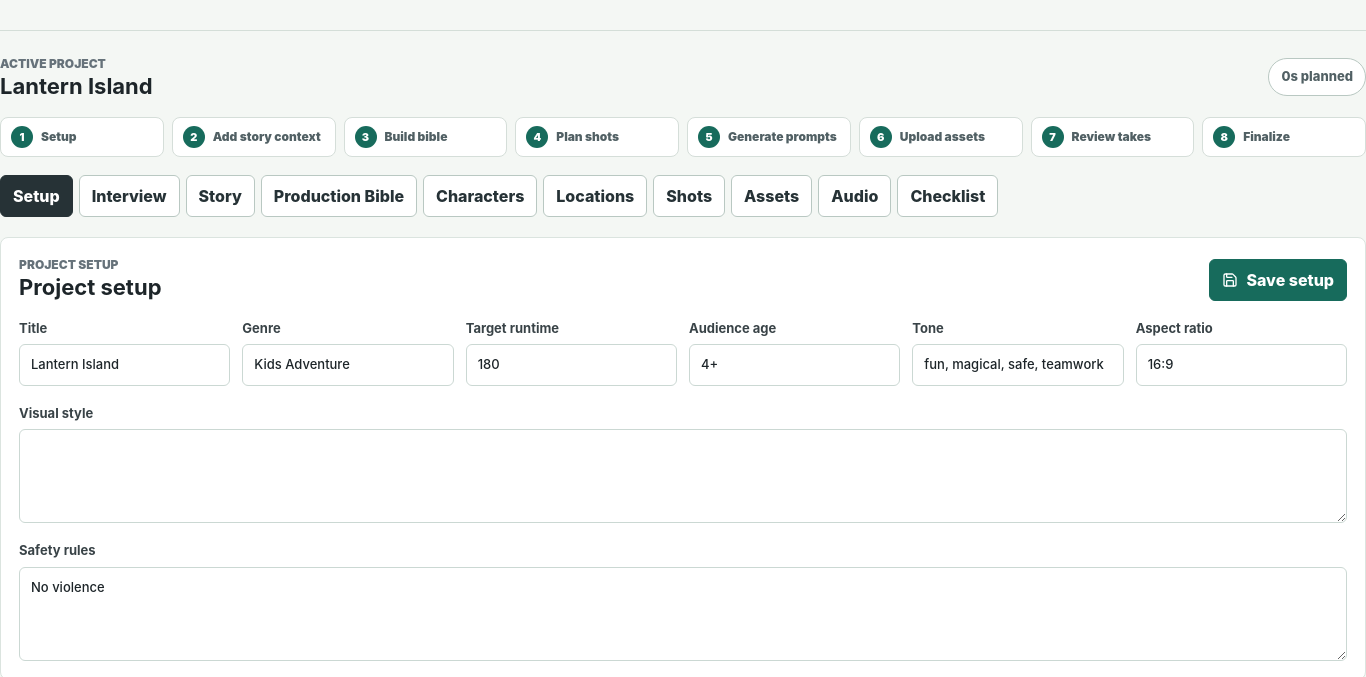
Scenario: ProjectWorkspace › uses flexible workflow wording and marks interview optional
Expected: the list named "Production workflow" shows "Setup", [41,129,77,144]
Expected: the list named "Production workflow" shows "Add story context", [213,129,321,144]
Click the button "Interview" at (129, 196), box [79,175,180,217]
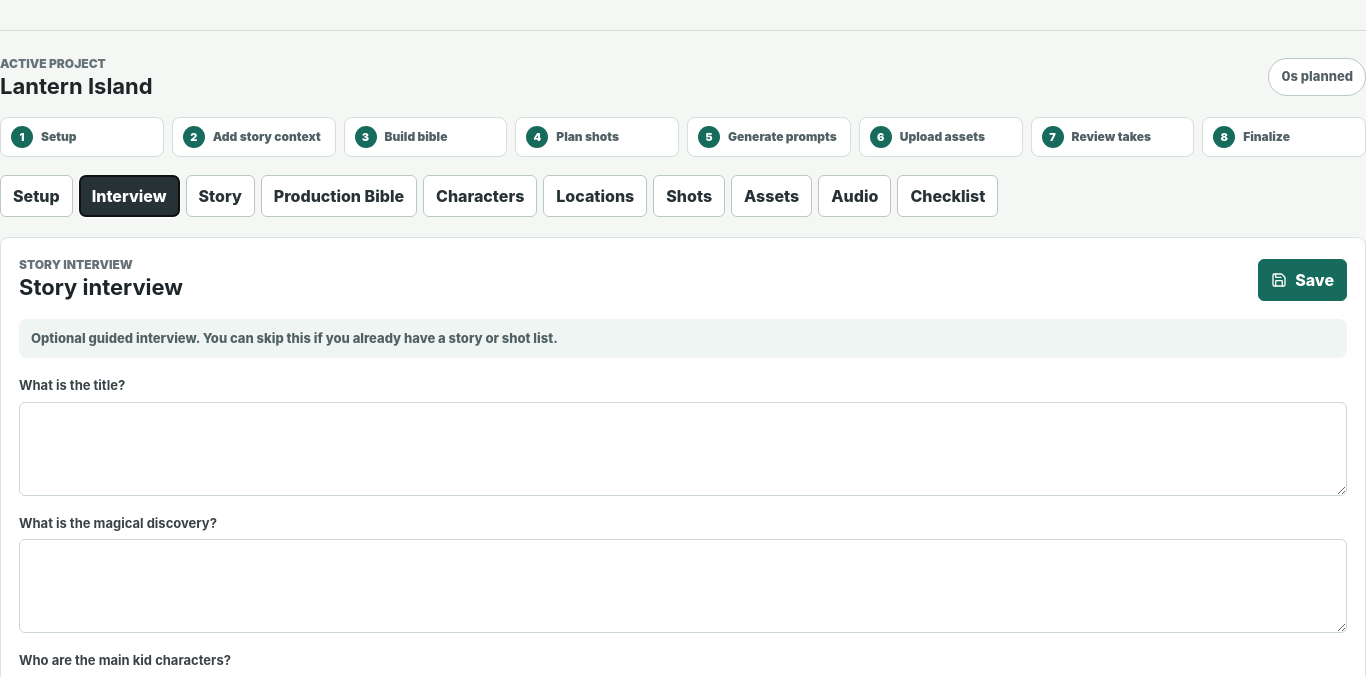
Expected: the text "Optional guided interview" is shown, [31,330,558,346]
Click the button "Story" at (220, 196), box [186,175,255,217]
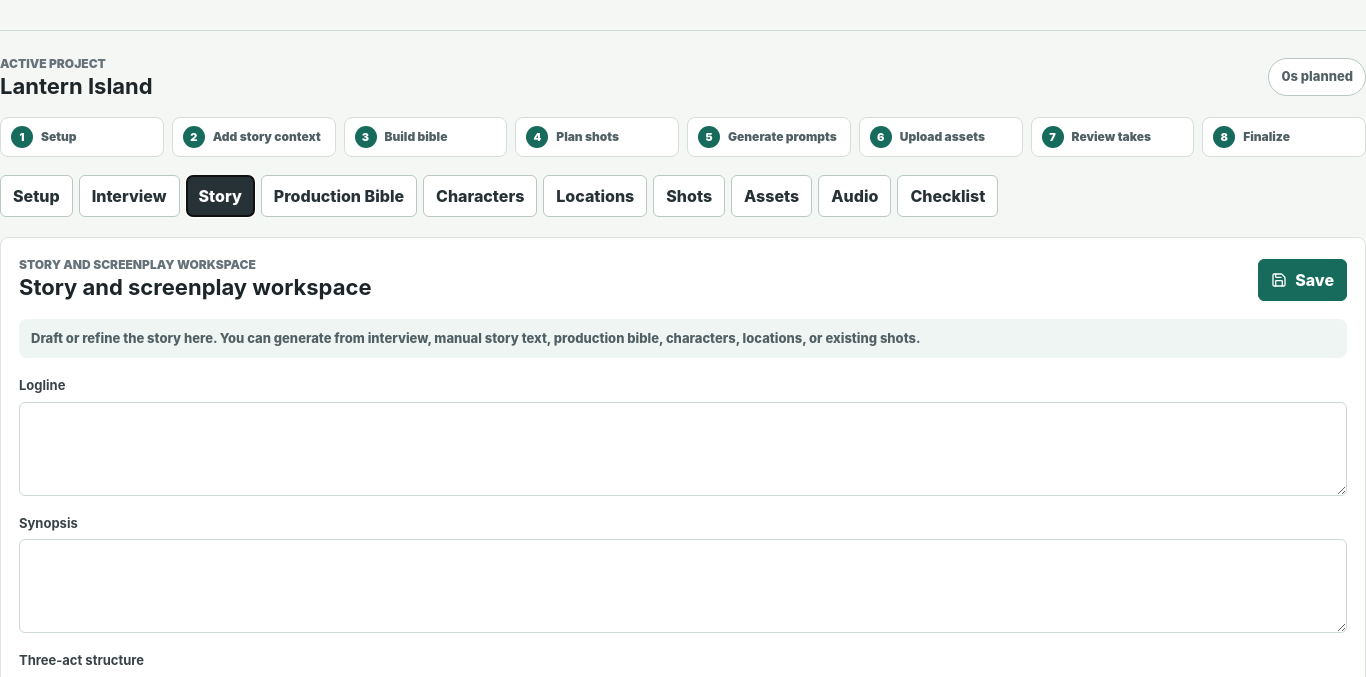
Expected: the text "generate from interview, manual story text, production bible, characters, locations, or existing shots" is shown, [31,330,921,346]
